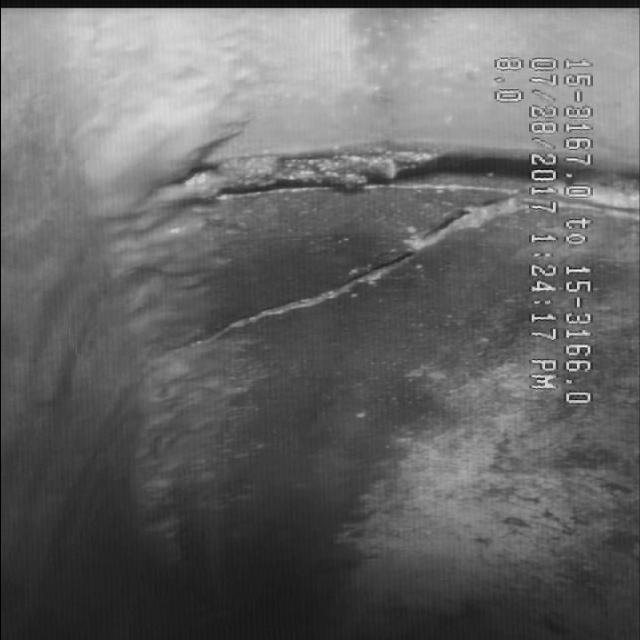Crack: (242, 210, 492, 336)
